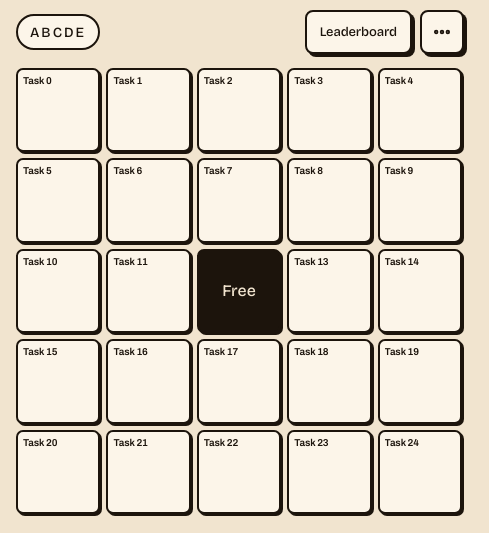
PlayScreen › header: code pill + Leaderboard + dots menu for everyone; End game for the host only
Expected: the button "Leaderboard" is shown, left=305, top=10, right=412, bottom=54
Expected: the text "ABCDE" is shown, left=16, top=14, right=100, bottom=50
What coordinates should you click on to do the following:
click the button named "Menu"
I would click on:
 (442, 32)
Its box is left=420, top=10, right=464, bottom=54.
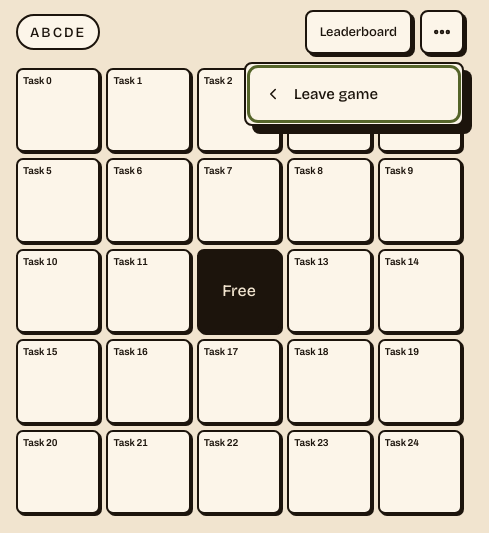
Now the menu items read "Leave game", in this order, box left=252, top=70, right=456, bottom=118
